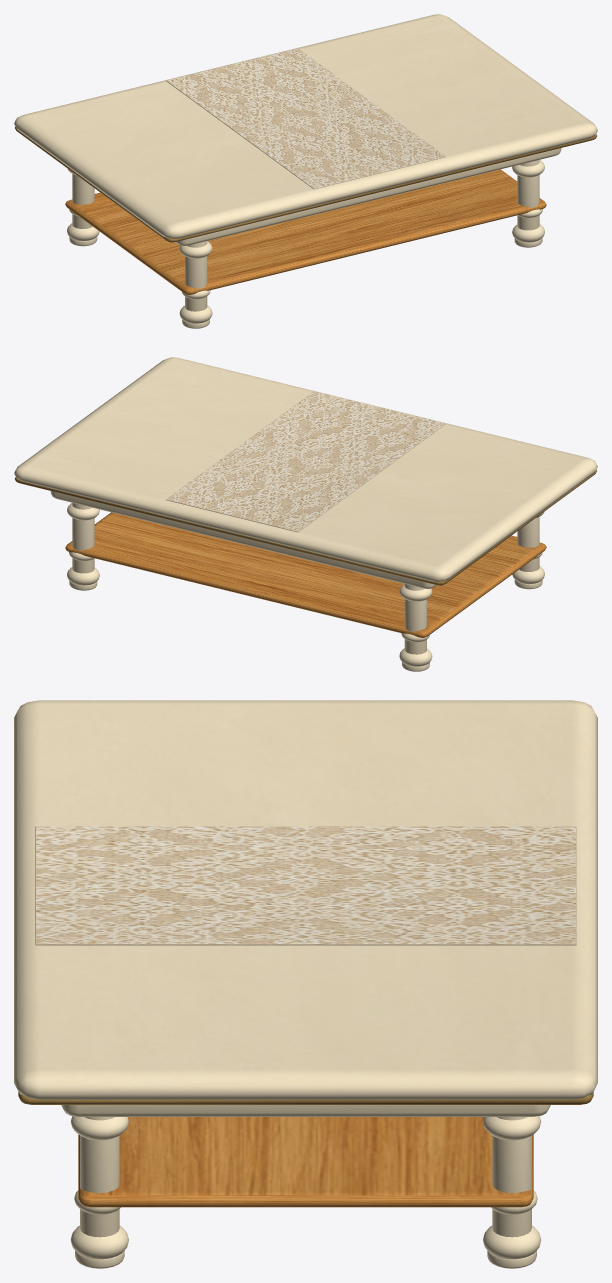
File: SM_InteriorAdditions_CoffeeTable.fbx
3 renders of one model, top to bottom at view 1: azimuth 30°, elevation 25°; view 2: azimuth 150°, elevation 25°; view 3: azimuth 270°, elevation 25°, orthographic. The views are drawn at different scales.
Visible parts, largest first — view 1: SM_InteriorAdditions_CoffeeTable; view 2: SM_InteriorAdditions_CoffeeTable; view 3: SM_InteriorAdditions_CoffeeTable.
Boxes of the visible parts, x1,y1,x2,y2 form: SM_InteriorAdditions_CoffeeTable: (14,14,597,328); SM_InteriorAdditions_CoffeeTable: (14,357,597,671); SM_InteriorAdditions_CoffeeTable: (14,700,597,1268).
Size of what is drawn, in the model's own units: 165 by 105 by 44.88.
